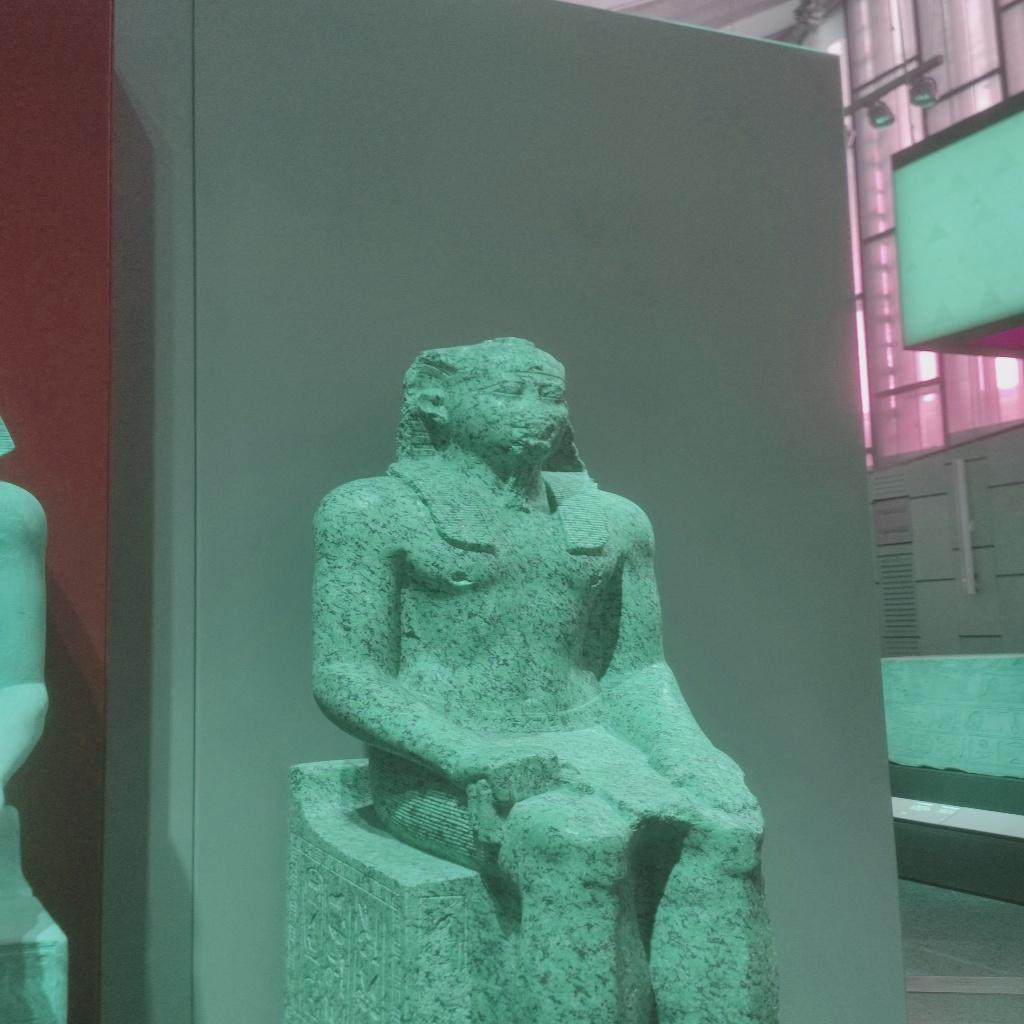Statue of Amenmhat I: (302, 333, 782, 1021)
